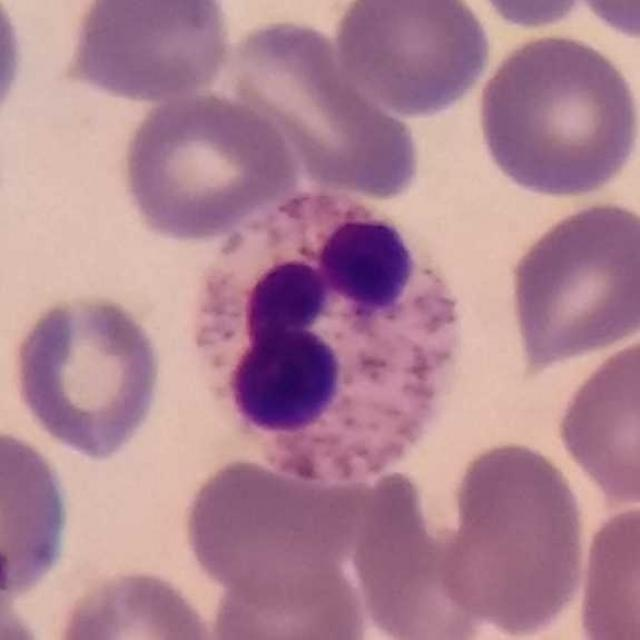Neutrophil: (177, 178, 480, 502)
RBC: (219, 15, 424, 202), (434, 435, 592, 638), (472, 30, 640, 202), (117, 88, 302, 243), (6, 289, 168, 462), (177, 452, 359, 604), (346, 468, 487, 640), (503, 196, 640, 373), (330, 0, 496, 118), (61, 0, 235, 104), (204, 547, 373, 640), (552, 331, 640, 508), (0, 418, 76, 602), (51, 563, 224, 640), (572, 501, 640, 639), (454, 0, 604, 32), (0, 0, 30, 137), (0, 559, 48, 639), (569, 0, 640, 45)
